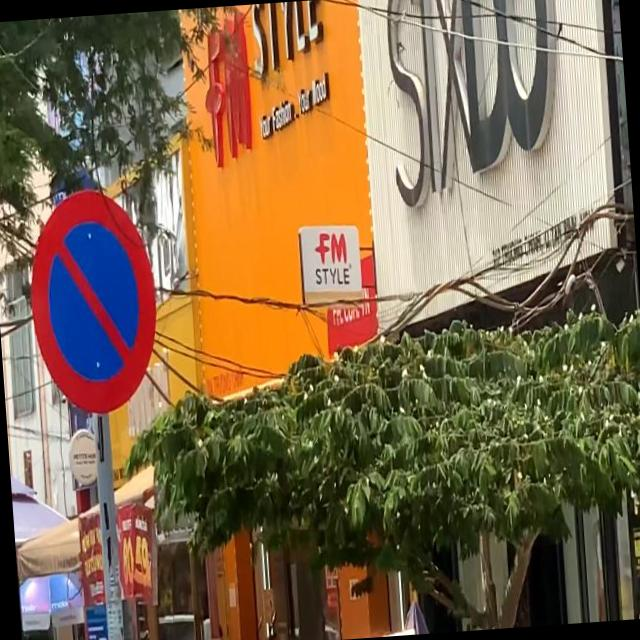P-131a: (23, 184, 164, 415)
